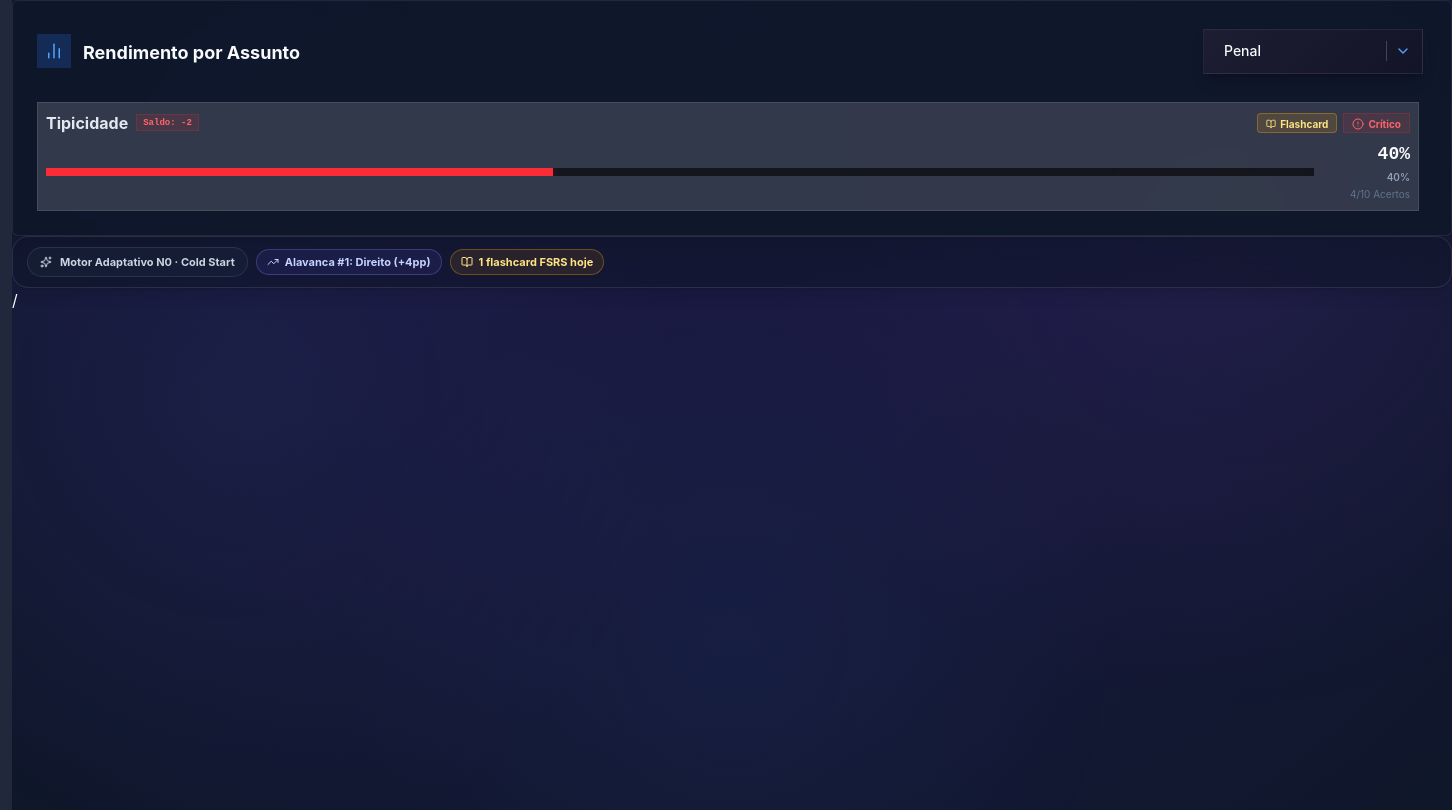
Test: Cross-Menu Integration Fixes › 7. TopicPerformance wires onCreateFlashcard and AdaptivePulseStrip deep-links Tornado & FSRS autoStartReview
Earlier steps of the test are not shown.
Click the button "Alavanca #1: Direito (+4pp)" at coordinates (349, 262), box x1=256 y1=249 x2=442 y2=275
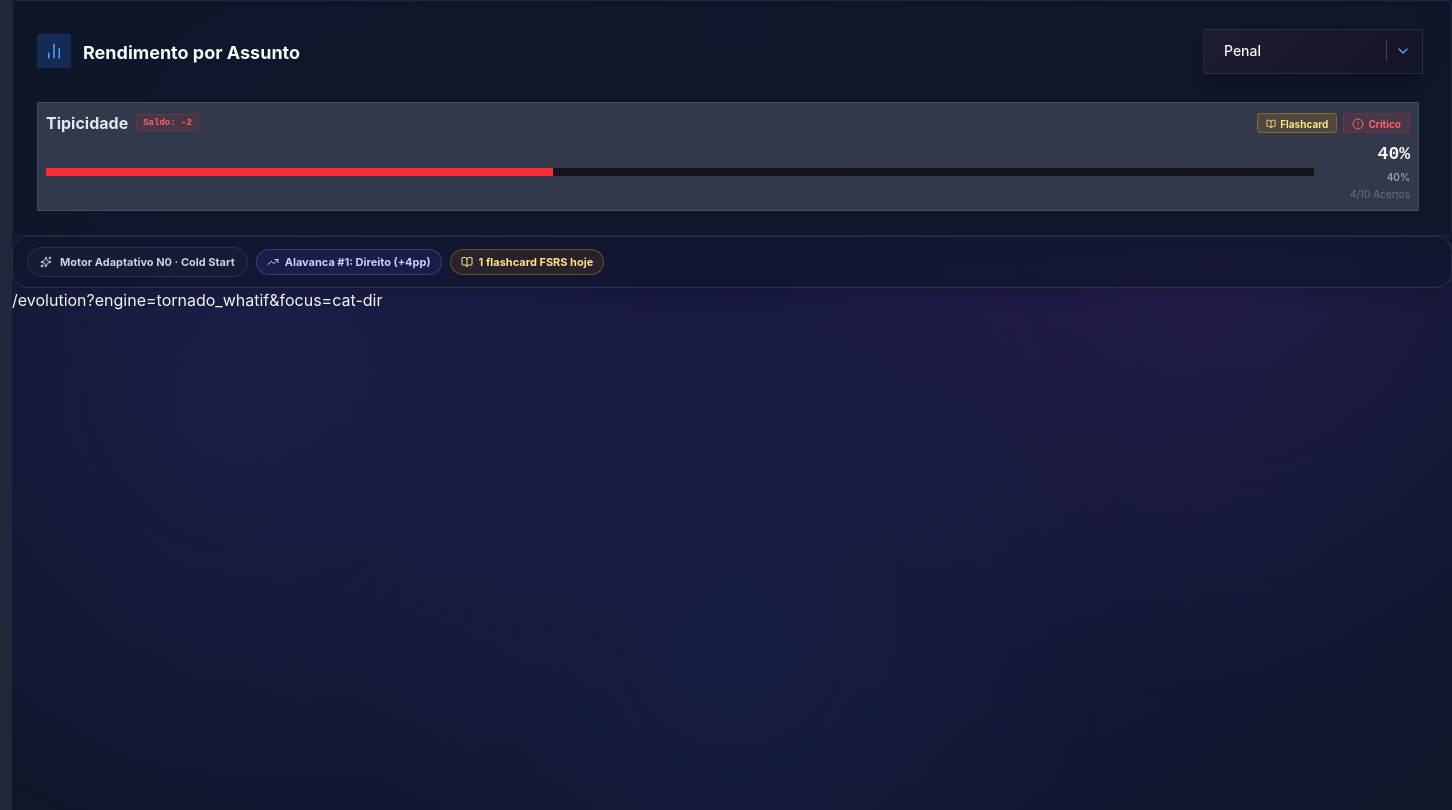
Expected: the text with test id "loc-probe" shows "/evolution?engine=tornado_whatif", x1=12 y1=290 x2=382 y2=310
Click the button "1 flashcard FSRS hoje" at coordinates (527, 262), box x1=450 y1=249 x2=604 y2=275
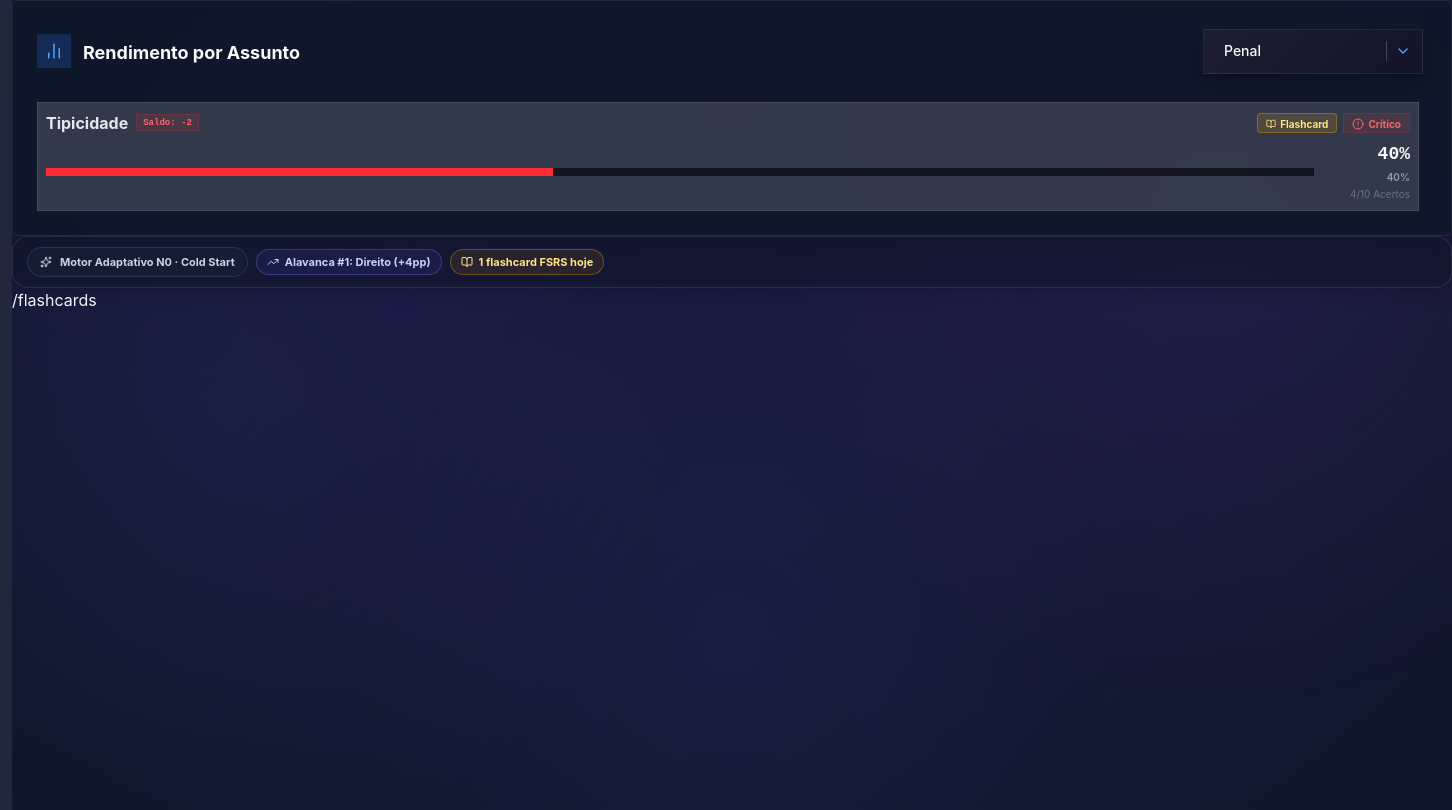
Expected: the text with test id "loc-probe" reads "/flashcards", x1=12 y1=290 x2=97 y2=310
